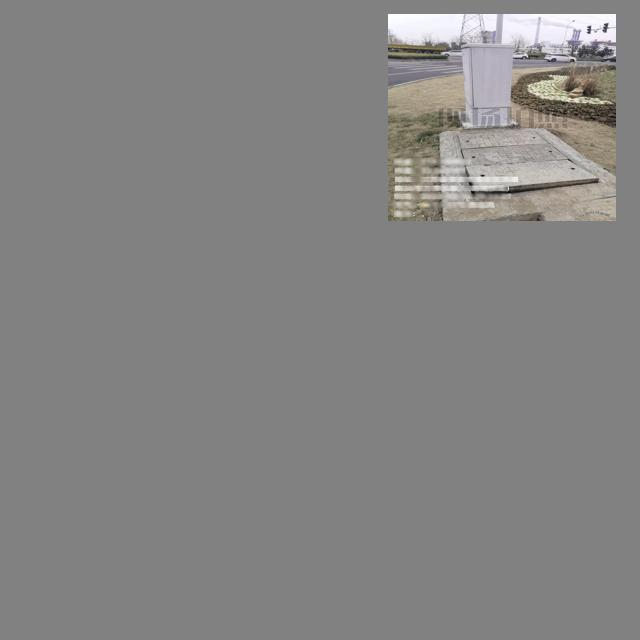uncovered: (453, 129, 606, 200)
